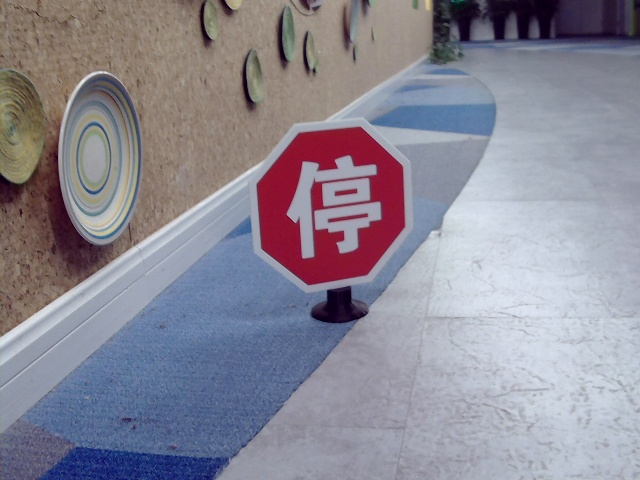stop: (283, 158, 382, 254)
